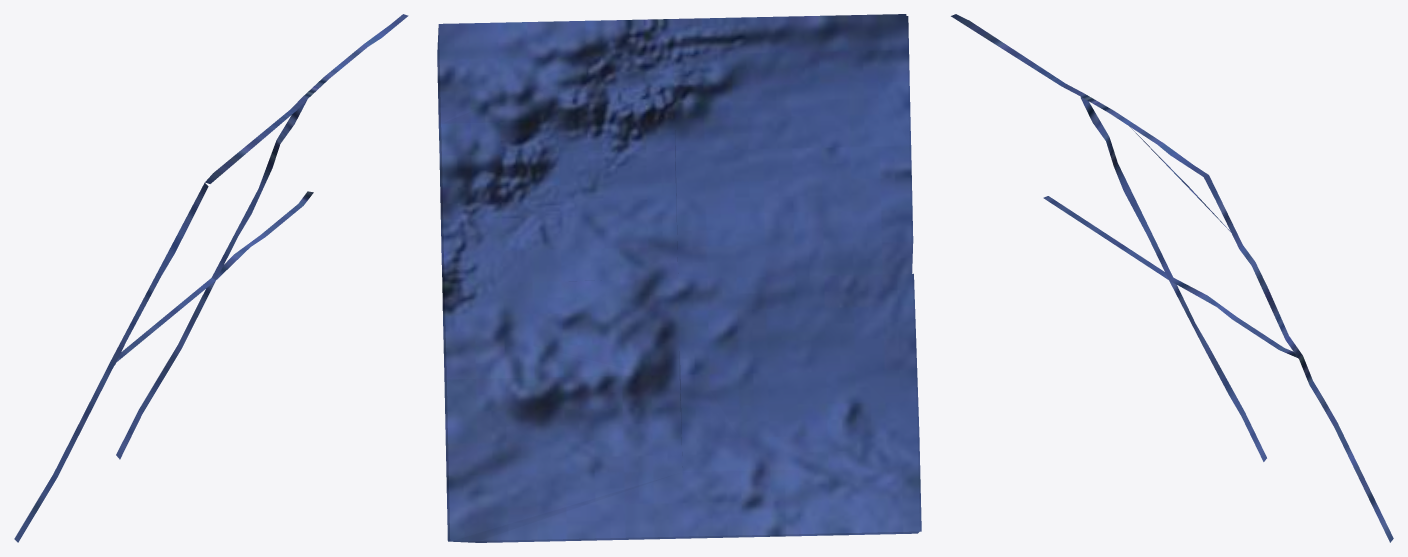
3 views of the same model, side by side, from view 1: azimuth 30°, elevation 25°; view 2: azimuth 150°, elevation 25°; view 3: azimuth 270°, elevation 25° (orthographic). The views are drawn at different scales.
Size of the model in its own units: 39449 by 35788 by 34289.
Materials: 1 (1 with a texture image).
